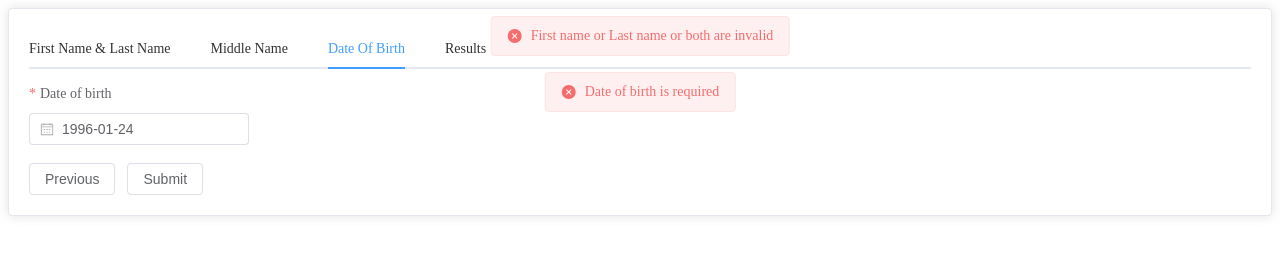
Test case: FormStepper › checks submit
Expected: the text with id "next-btn" reads "Submit", x1=143 y1=171 x2=187 y2=187
Click the button with id "next-btn": (166, 179) x1=128 y1=163 x2=204 y2=195
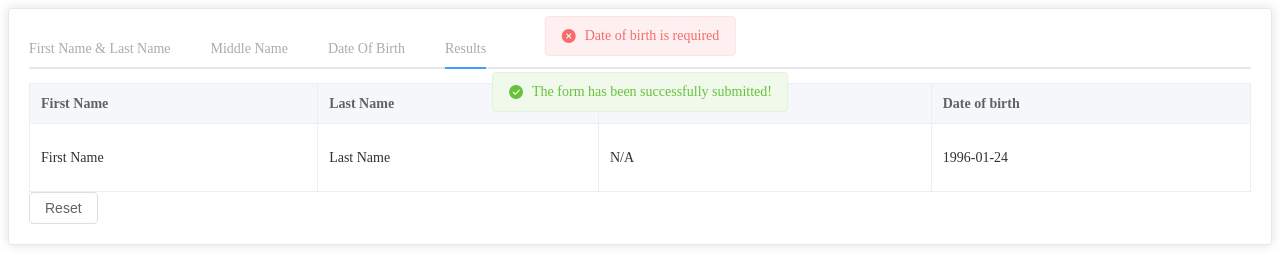
Expected: the text "The form has been successfully submitted!" is shown, x1=532 y1=85 x2=772 y2=99
